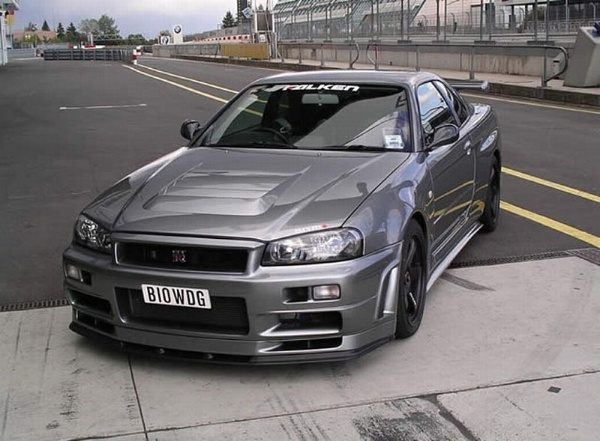licence: (139, 279, 210, 313)
